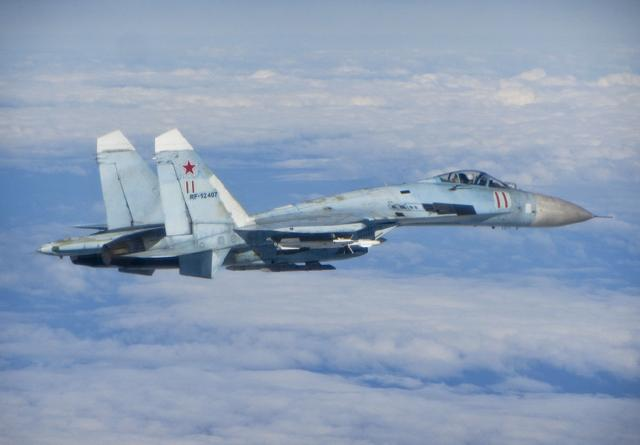airplane: (35, 121, 620, 285)
